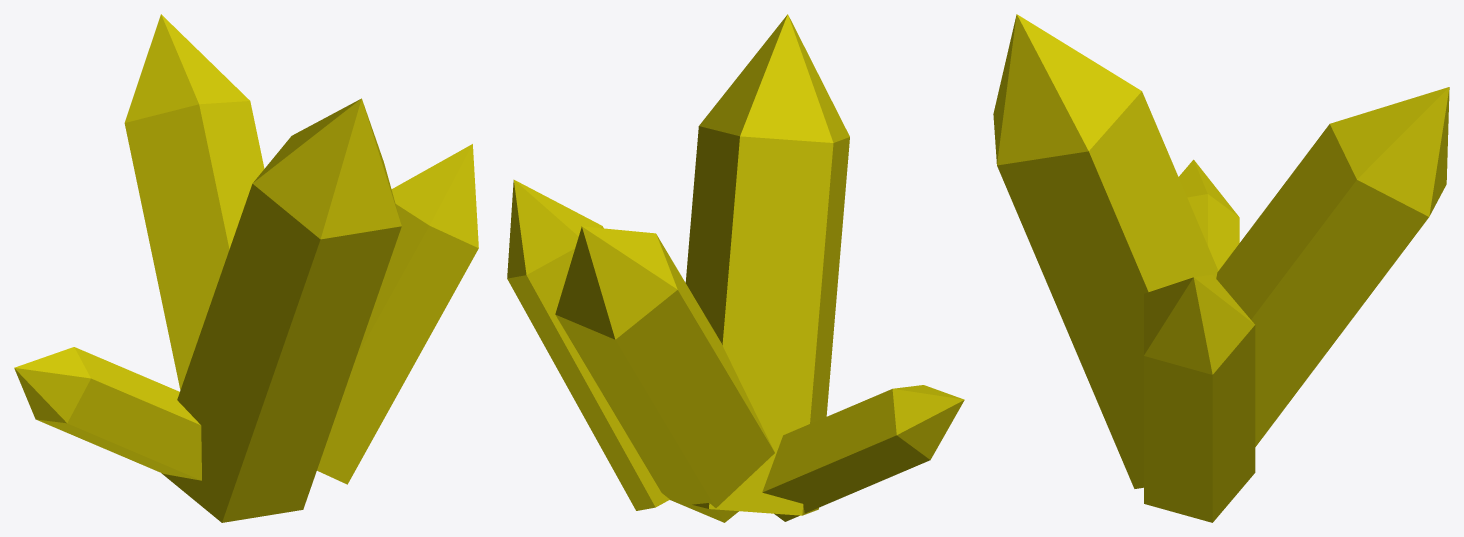
The model's file is crystall_y.fbx.
3 renders of one model, left to right at view 1: azimuth 30°, elevation 25°; view 2: azimuth 150°, elevation 25°; view 3: azimuth 270°, elevation 25°, orthographic. The views are drawn at different scales.
Parts seen in each view (by area): view 1: Cylinder.001; view 2: Cylinder.001; view 3: Cylinder.001.
Part boxes in pixels (x1=…): Cylinder.001: x1=14, y1=14, x2=478, y2=522; Cylinder.001: x1=507, y1=14, x2=964, y2=522; Cylinder.001: x1=993, y1=14, x2=1449, y2=522.
Size of the model in its own units: 335 by 316 by 273.
